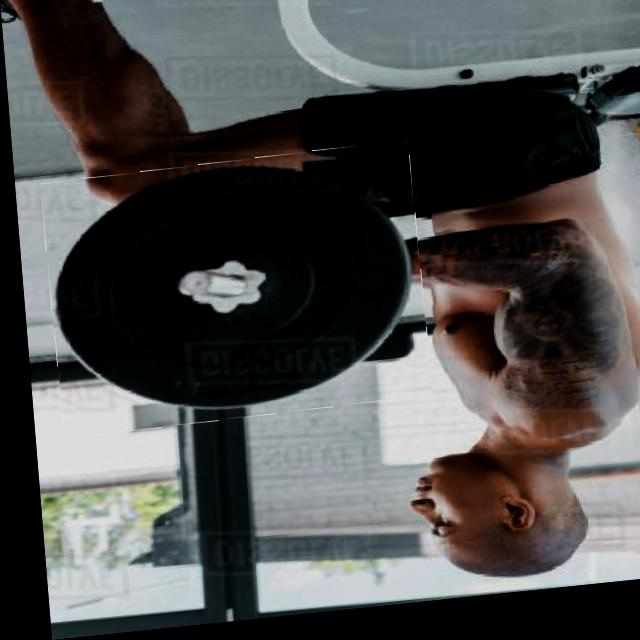barbell: (39, 151, 425, 439)
